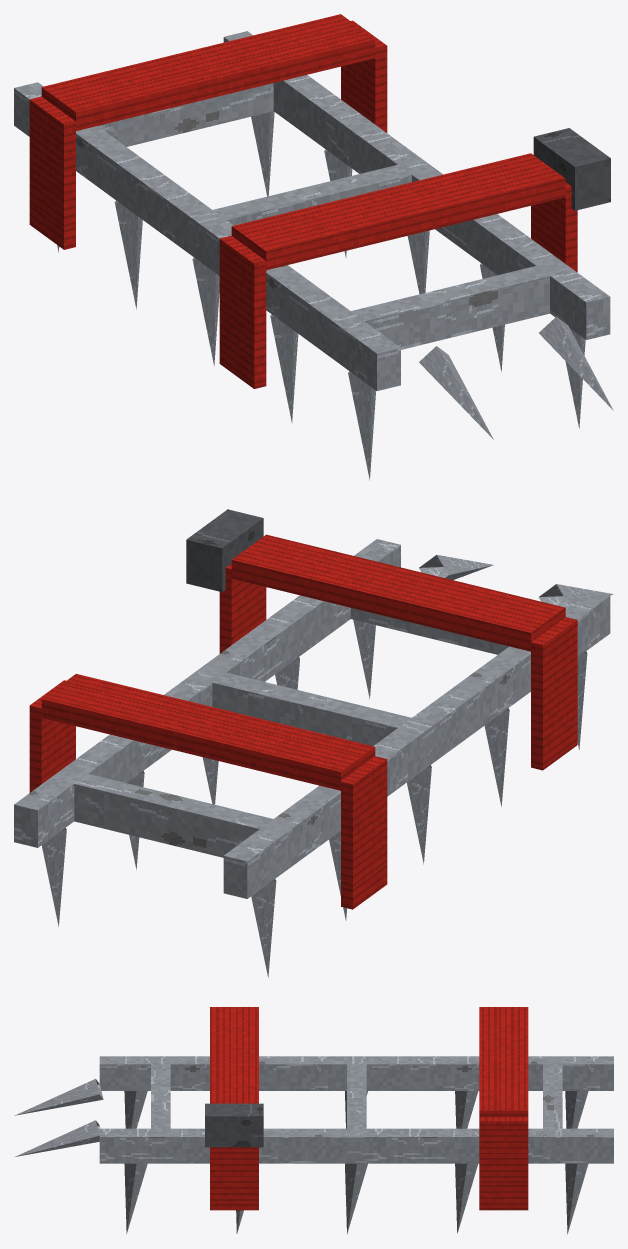
Rendered from item_crampons.glb.
The picture shows the model from 3 angles, top to bottom: view 1: azimuth 30°, elevation 25°; view 2: azimuth 150°, elevation 25°; view 3: azimuth 270°, elevation 25°; orthographic projection. The views are drawn at different scales.
Parts seen in each view (by area): view 1: item_crampons; view 2: item_crampons; view 3: item_crampons.
Part boxes in pixels (x1=…): item_crampons: x1=14, y1=14, x2=613, y2=480; item_crampons: x1=14, y1=509, x2=613, y2=977; item_crampons: x1=15, y1=1007, x2=613, y2=1234.
Size of the model in its own units: 0.118 by 0.067 by 0.245.
Materials: 3 (3 with a texture image).
